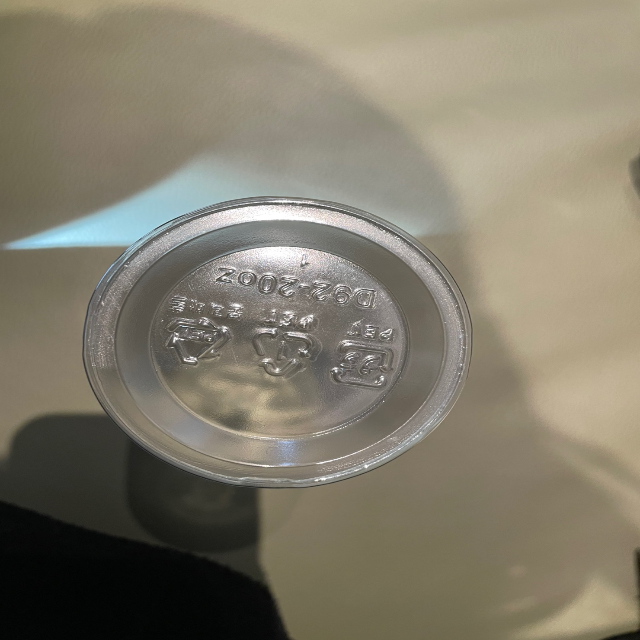pet: (159, 284, 242, 373), (250, 305, 322, 388), (330, 317, 400, 393)
